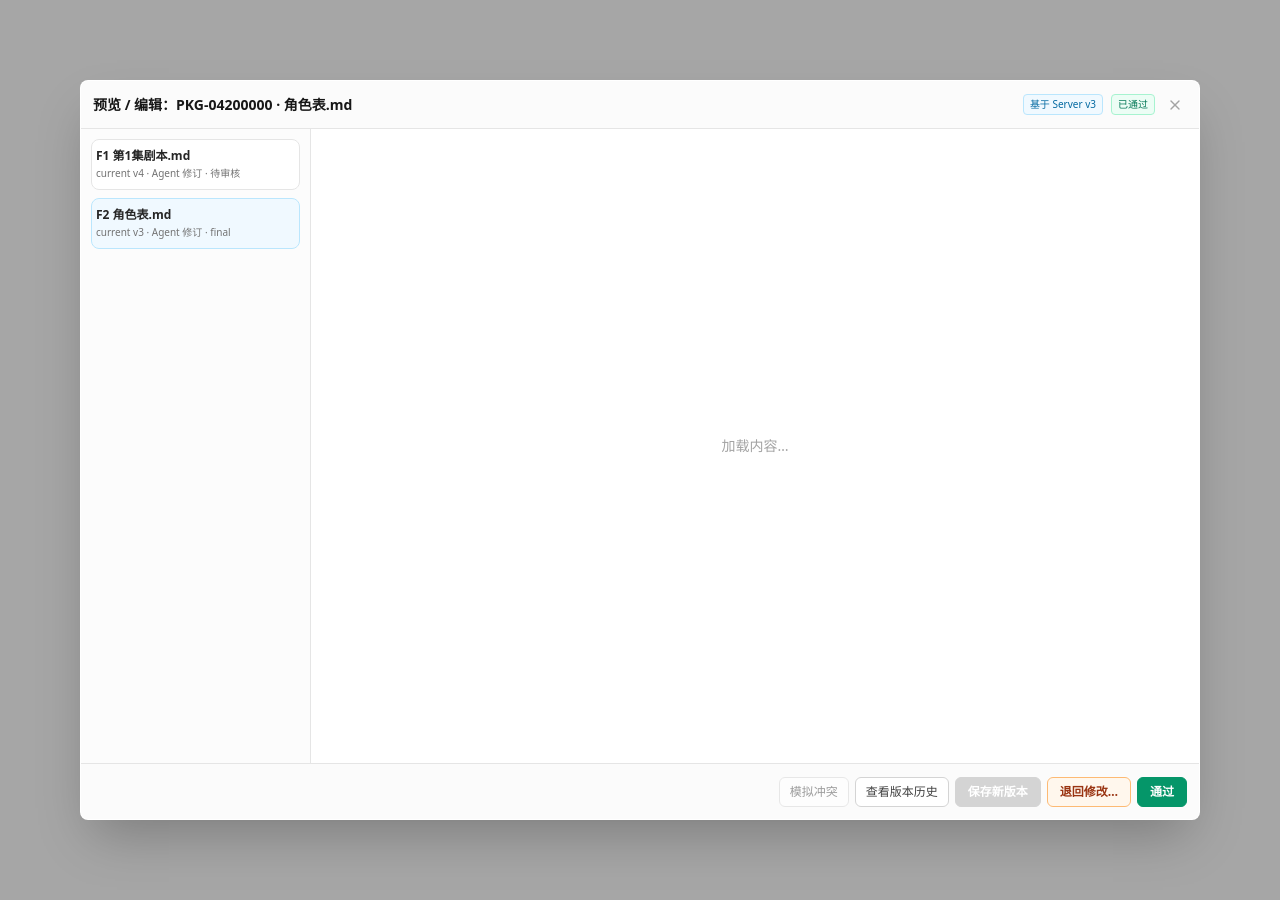
Test: OutputPackagePreviewModal 原型收敛 › 成员行打开时聚焦指定版本，并可在左栏切换文件
Expected: the heading "预览 / 编辑：PKG-04200000 · 角色表.md" is shown, [93, 94, 352, 114]
Click the button "F1 第1集剧本.md current v4 · Agent 修订 · 待审核". click: coordinates (196, 164)
box: [92, 140, 299, 189]
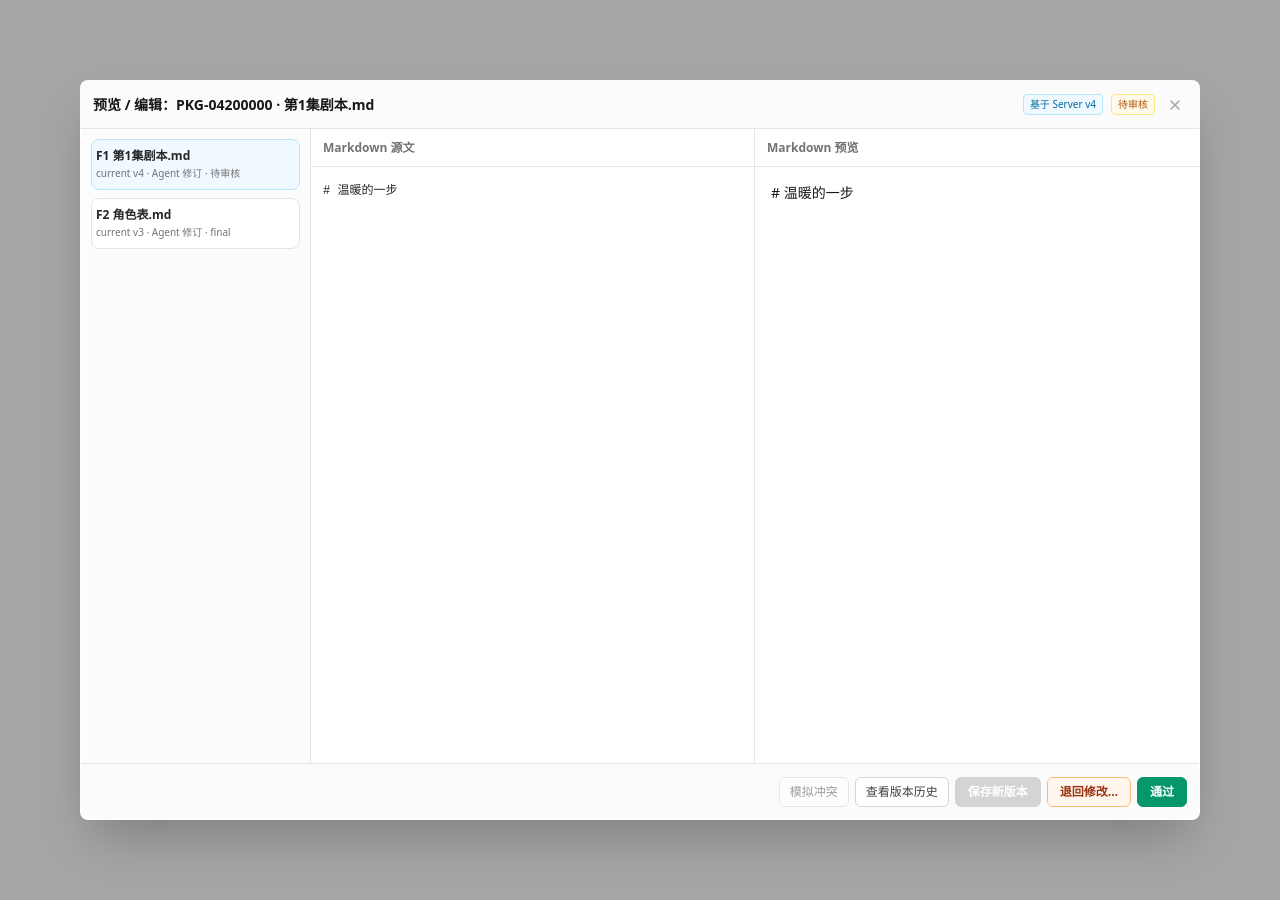
Now the heading "预览 / 编辑：PKG-04200000 · 第1集剧本.md" is shown, box [93, 94, 374, 114]
